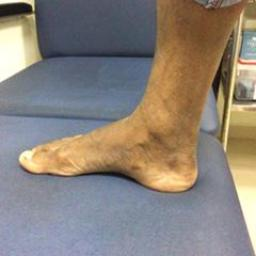Medial View -Right Foot-: (14, 76, 215, 199)
